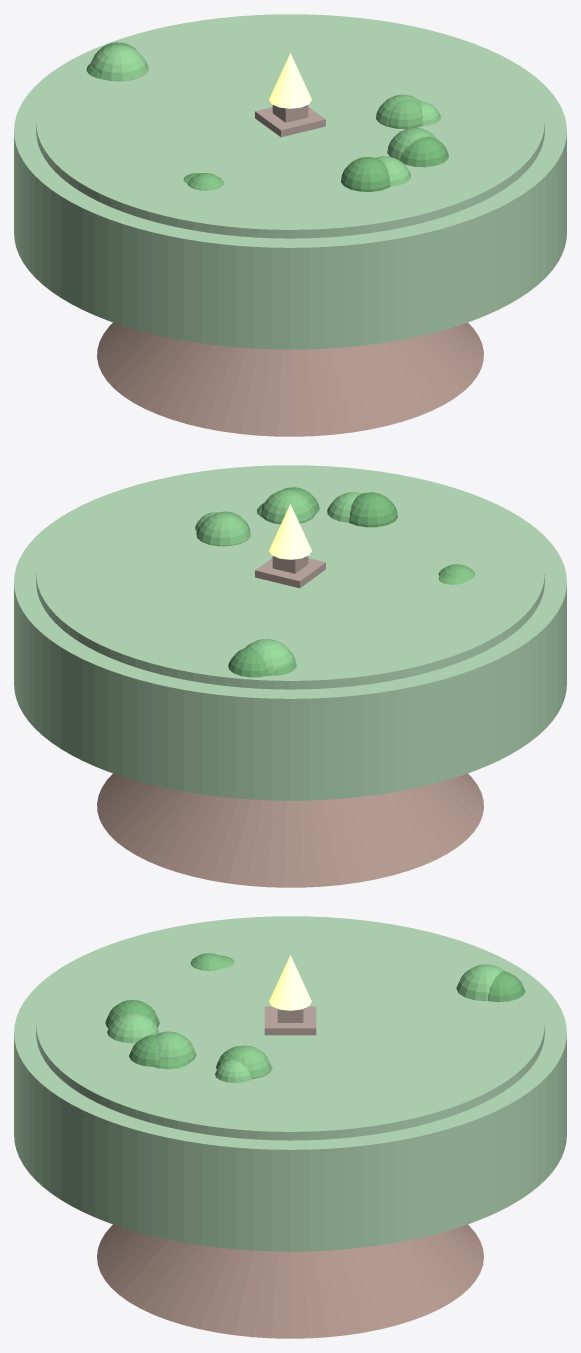
The model's file is 05_dschungeltempel.glb.
3 renders of one model, top to bottom at view 1: azimuth 30°, elevation 25°; view 2: azimuth 150°, elevation 25°; view 3: azimuth 270°, elevation 25°, orthographic.
Visible parts, largest first — view 1: GrassTop, Island, IslandDrip, JungleCrown3.002, JungleCrown2.004, TempleSpike, TempleStep2, JungleCrown2, JungleCrown2.001, JungleCrown3, JungleCrown0.004; view 2: GrassTop, Island, IslandDrip, JungleCrown2.004, JungleCrown1.001, TempleSpike, JungleCrown3, TempleStep2, JungleCrown3.002, JungleCrown1.002, JungleCrown0.004; view 3: GrassTop, Island, IslandDrip, TempleSpike, TempleStep2, JungleCrown0.004, JungleCrown3.002, JungleCrown3, JungleCrown1.002, JungleCrown1.001, JungleCrown2, JungleCrown2.004 (+1 smaller).
Boxes of the visible parts, x1,y1,x2,y2 form: GrassTop: (36,15,544,238); Island: (14,14,566,349); IslandDrip: (97,322,483,436); JungleCrown3.002: (91,45,148,81); JungleCrown2.004: (341,157,390,191); TempleSpike: (269,53,311,108); TempleStep2: (255,107,325,137); JungleCrown2: (399,136,448,167); JungleCrown2.001: (388,99,422,129); JungleCrown3: (387,128,436,160); JungleCrown0.004: (376,156,410,186); GrassTop: (36,466,544,689); Island: (14,465,566,800); IslandDrip: (97,773,483,887); JungleCrown2.004: (349,492,397,527); JungleCrown1.001: (196,512,250,546); TempleSpike: (269,504,311,559); JungleCrown3: (261,489,315,524); TempleStep2: (255,558,325,588); JungleCrown3.002: (246,639,295,672); JungleCrown1.002: (228,647,268,677); JungleCrown0.004: (327,492,361,522); GrassTop: (36,917,544,1140); Island: (14,916,566,1251); IslandDrip: (97,1224,483,1338); TempleSpike: (269,955,311,1010); TempleStep2: (264,1006,316,1035); JungleCrown0.004: (107,1013,159,1043); JungleCrown3.002: (456,964,505,1000); JungleCrown3: (155,1031,196,1062); JungleCrown1.002: (488,971,525,1002); JungleCrown1.001: (236,1045,272,1079); JungleCrown2: (129,1035,160,1066); JungleCrown2.004: (105,1000,159,1028).
Size of the model in its own units: 6.4 by 3.86 by 6.4.
